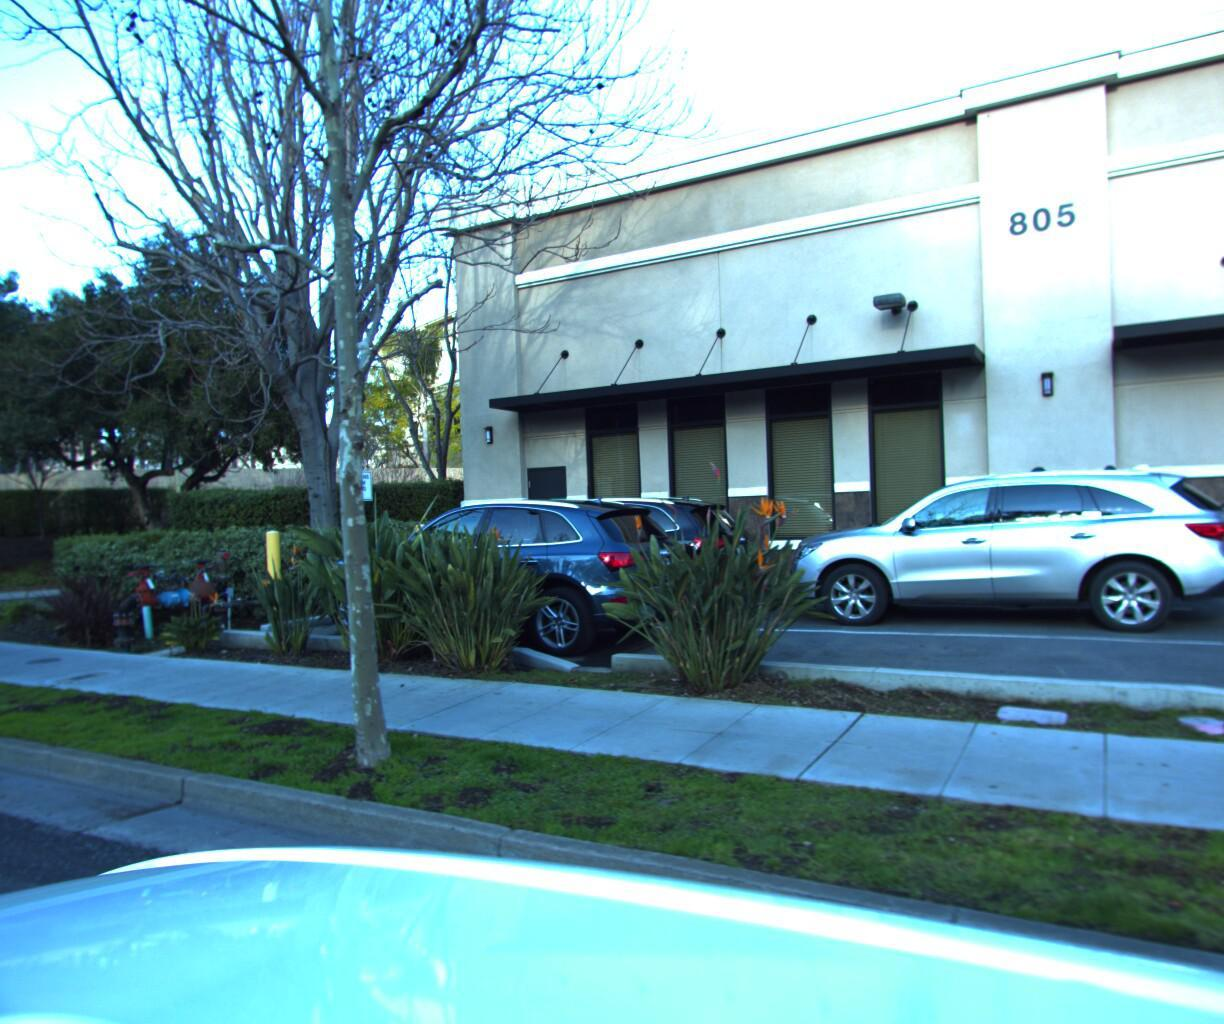car: (764, 450, 1224, 638), (297, 486, 709, 665), (430, 484, 773, 623)
